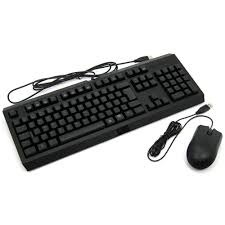keyboard: (1, 51, 161, 172)
mouse: (185, 118, 222, 179)
